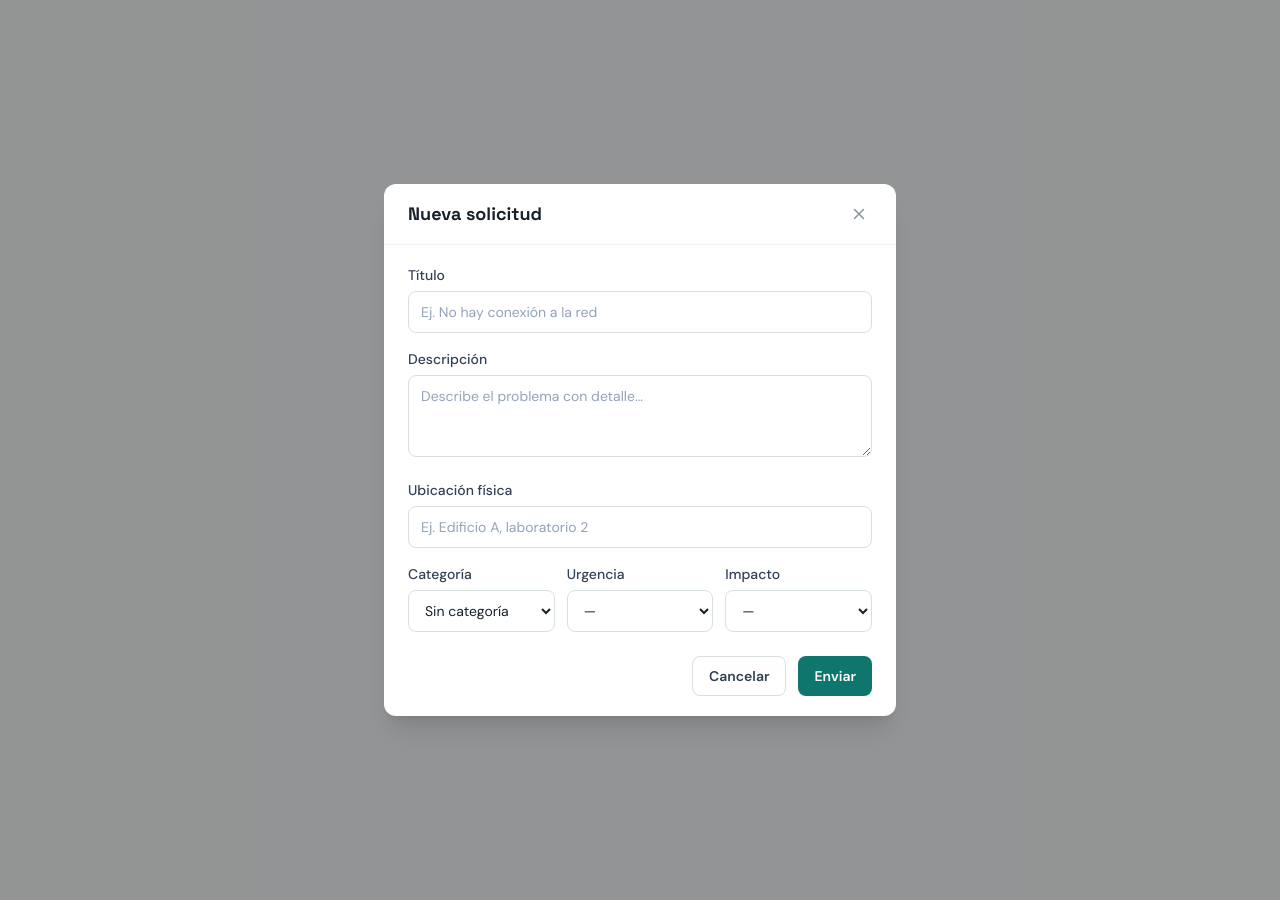
it: SolicitudForm: alta de solicitudes (S3-02 y S3-05, HU-01.1) › S3-02: valida un campo al salir de él, sin esperar al envío
Click the field labelled "Título". click: (640, 312)
box: x1=408 y1=291 x2=872 y2=333
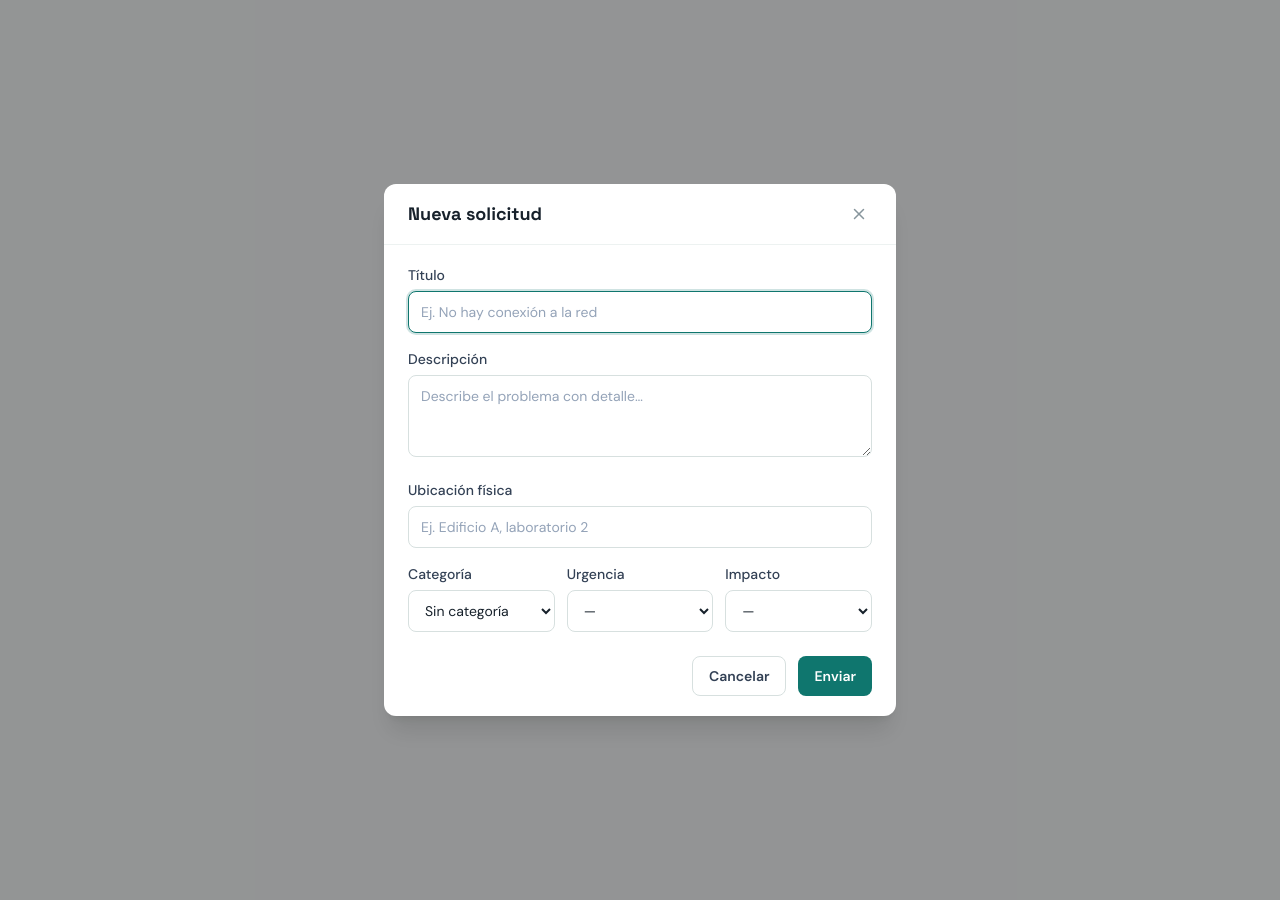
Press Tab
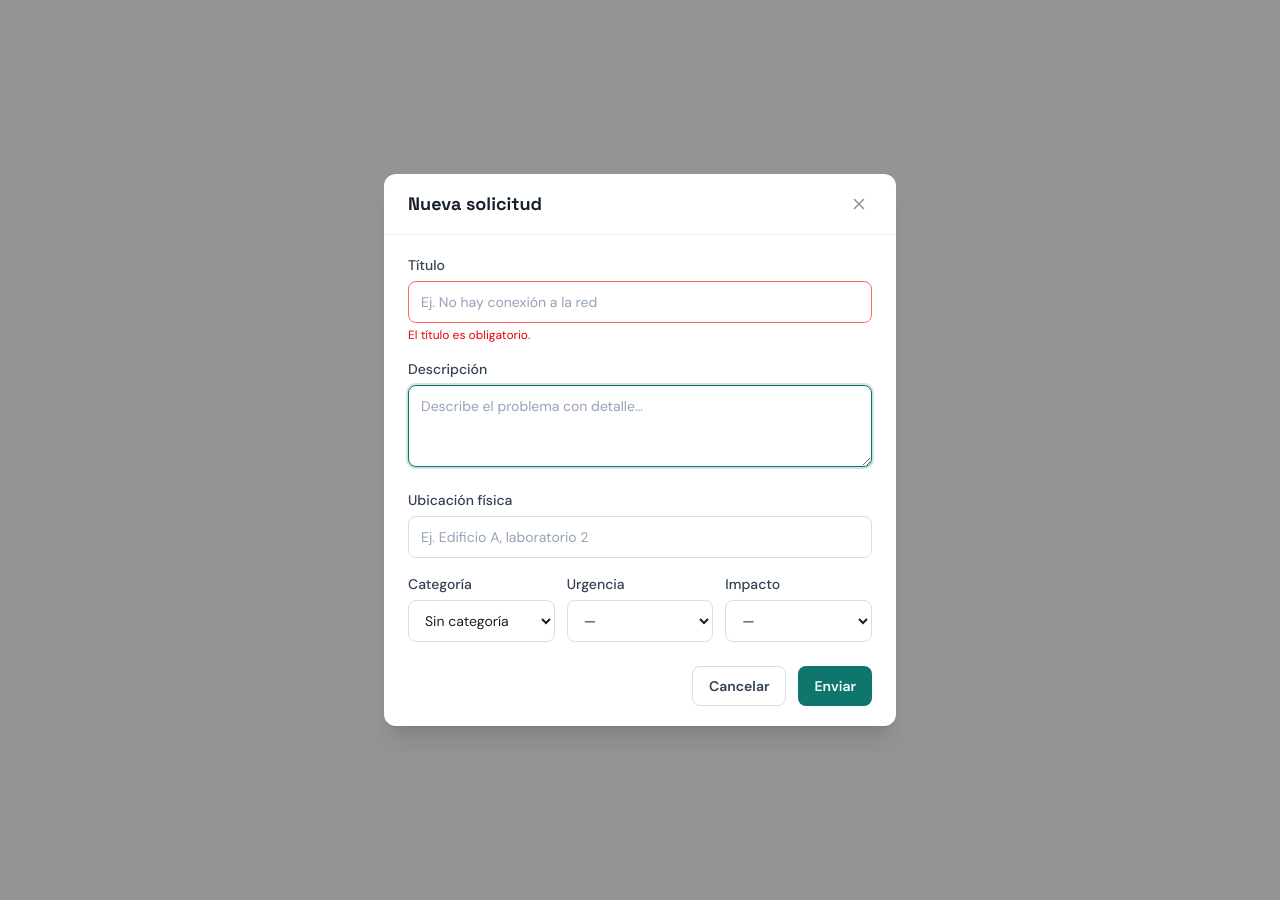
Result: the text "El título es obligatorio." is shown at x1=408 y1=327 x2=530 y2=343
